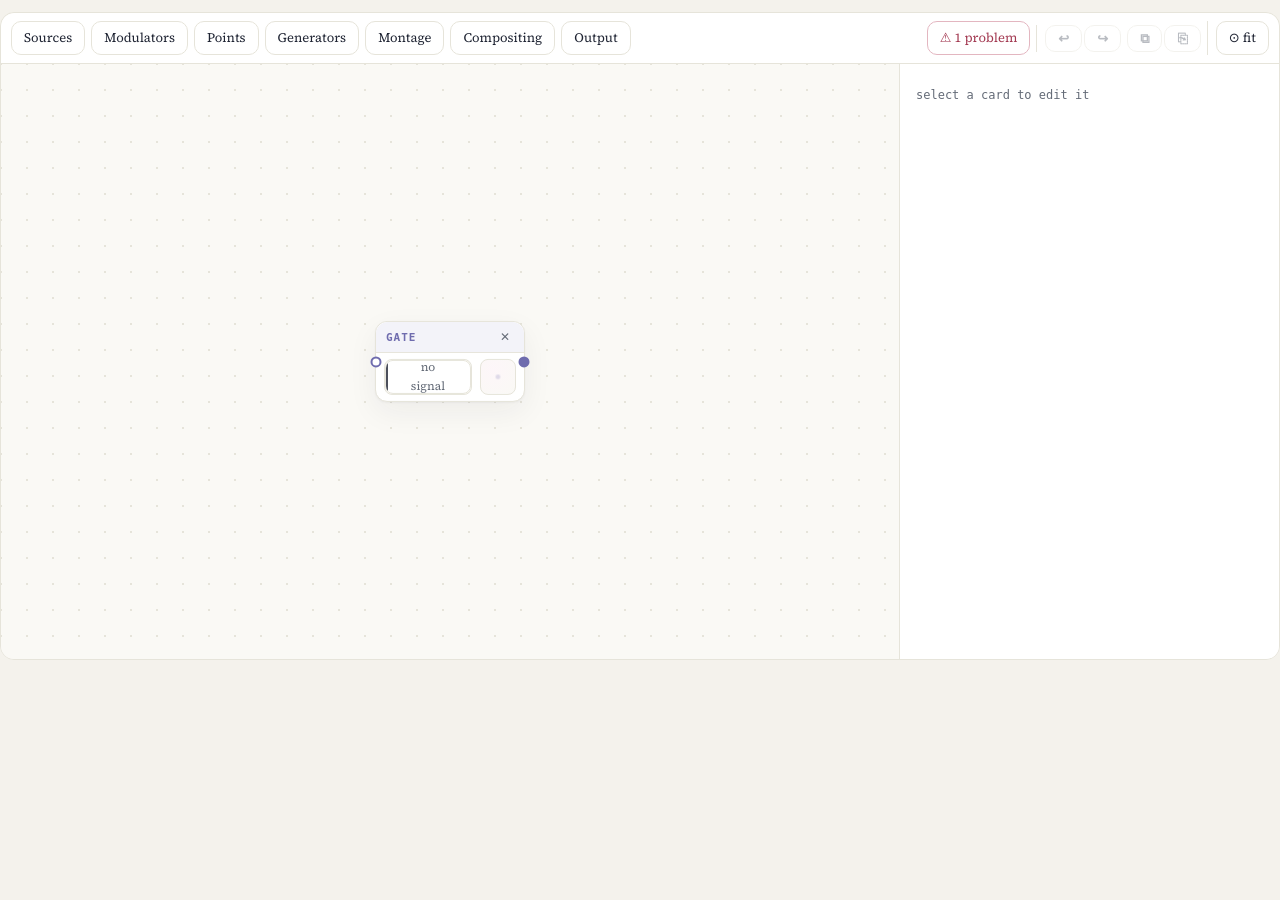
Test: compact cards (jsdom) › clicking the body opens the settings modal with the full card inside
Step 1. Click the button with class "anim-compact-body" → click(450, 377), box x1=376 y1=353 x2=524 y2=401
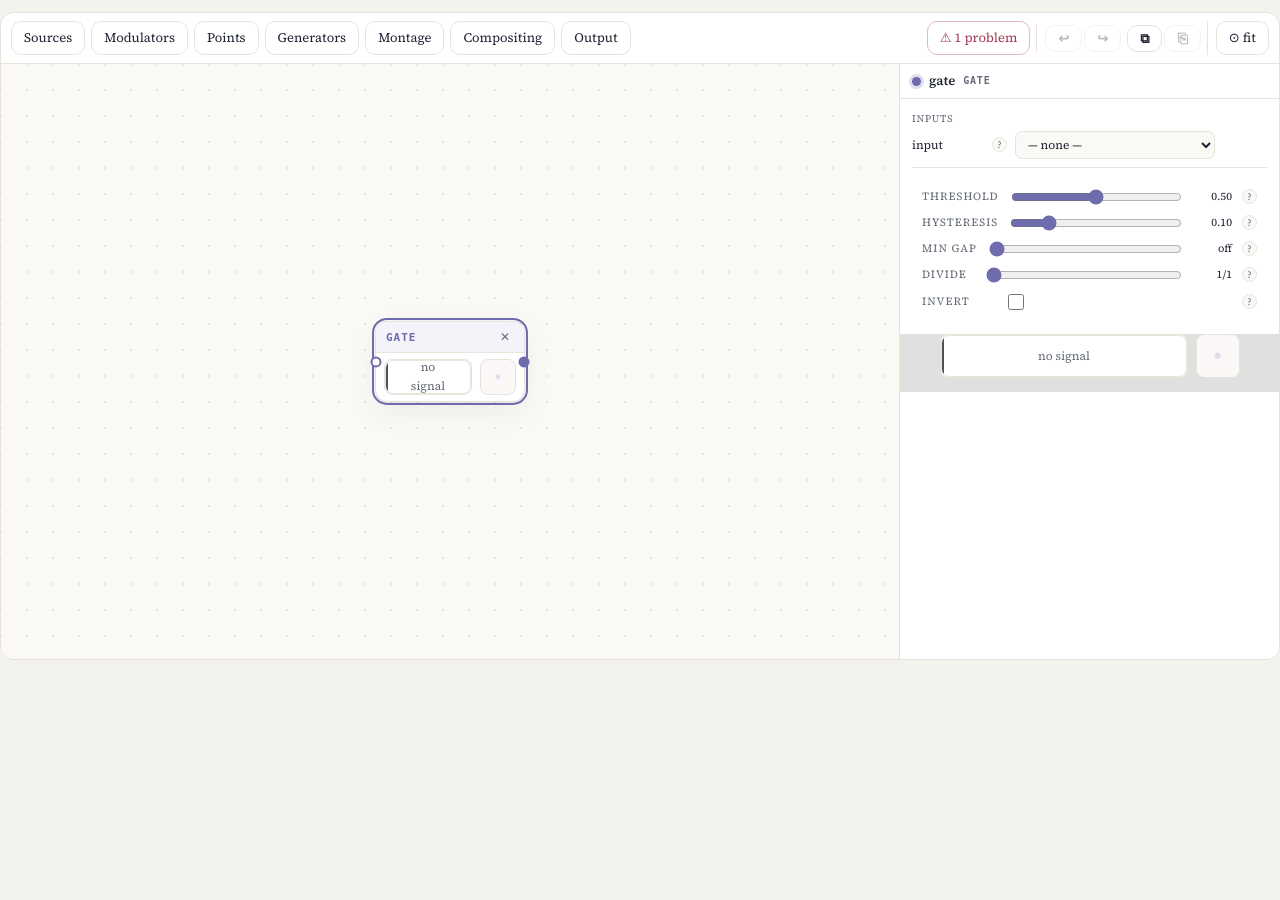
Now the slider labelled "threshold 0.50 ?" is shown, box x1=1011 y1=189 x2=1182 y2=205
